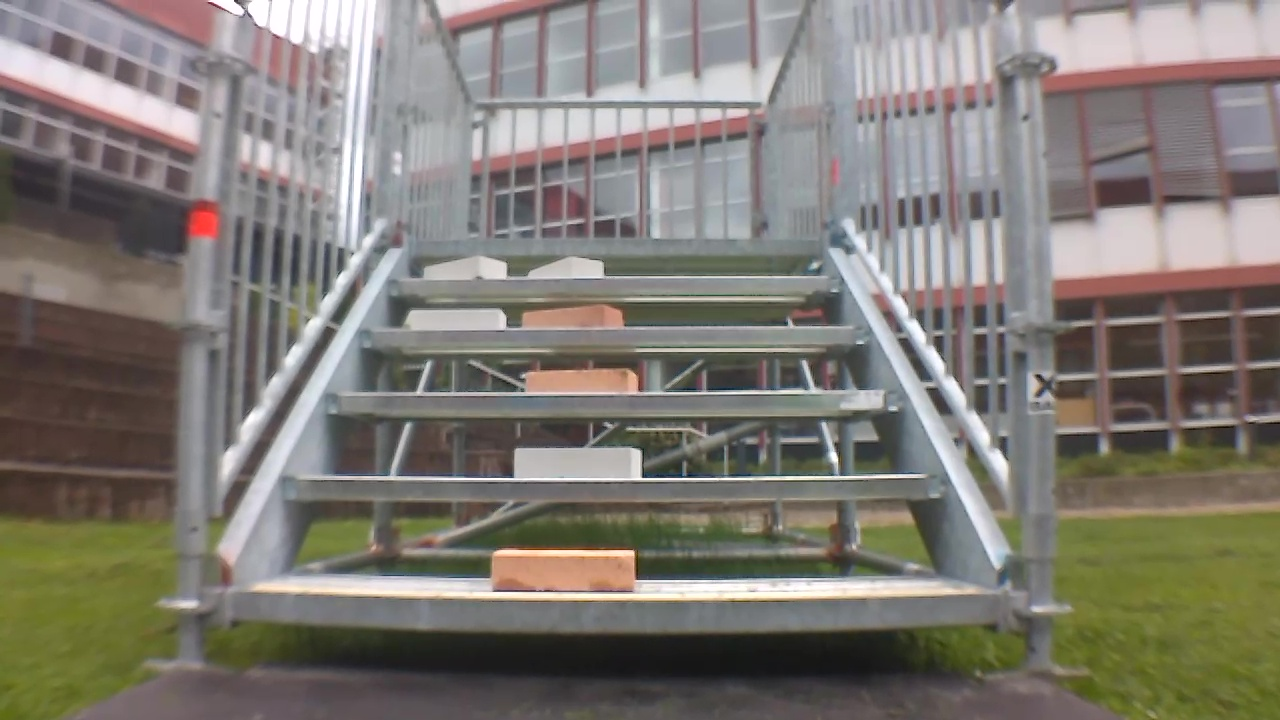brick: (491, 550, 634, 591), (513, 449, 640, 479), (527, 370, 636, 393), (524, 305, 621, 327), (410, 309, 505, 329), (424, 257, 506, 278), (530, 258, 603, 277)
edge: (232, 592, 1001, 631), (284, 476, 943, 500), (326, 391, 907, 415), (362, 327, 876, 344), (391, 276, 846, 295), (414, 238, 828, 256)
stairs: (155, 2, 1075, 671)
steps: (217, 234, 1005, 636)
